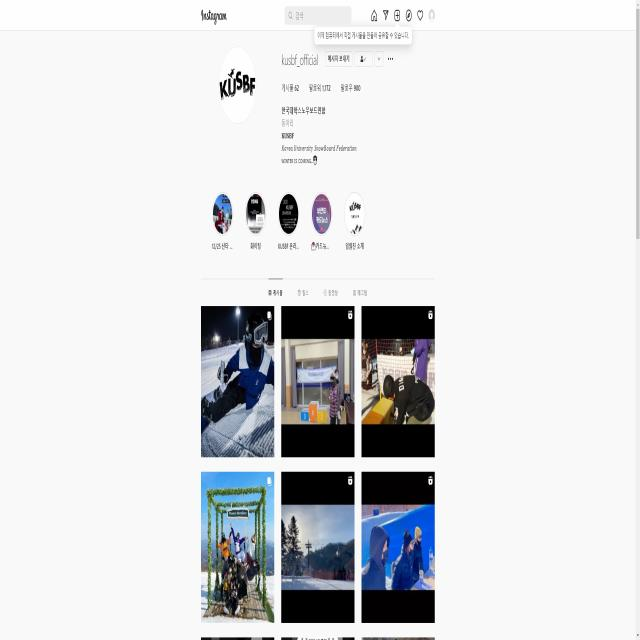menu-bar: (368, 7, 438, 26)
search: (284, 2, 352, 26)
tab-bar: (266, 282, 370, 300)
